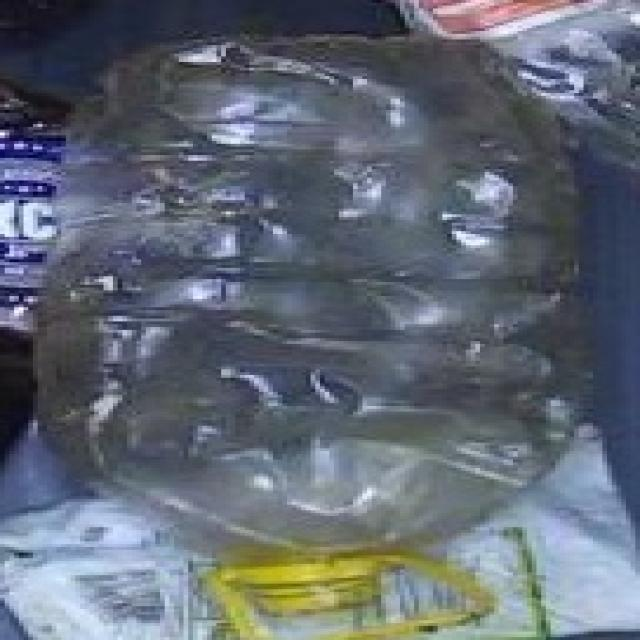plasticbottlecap: (137, 533, 494, 640)
